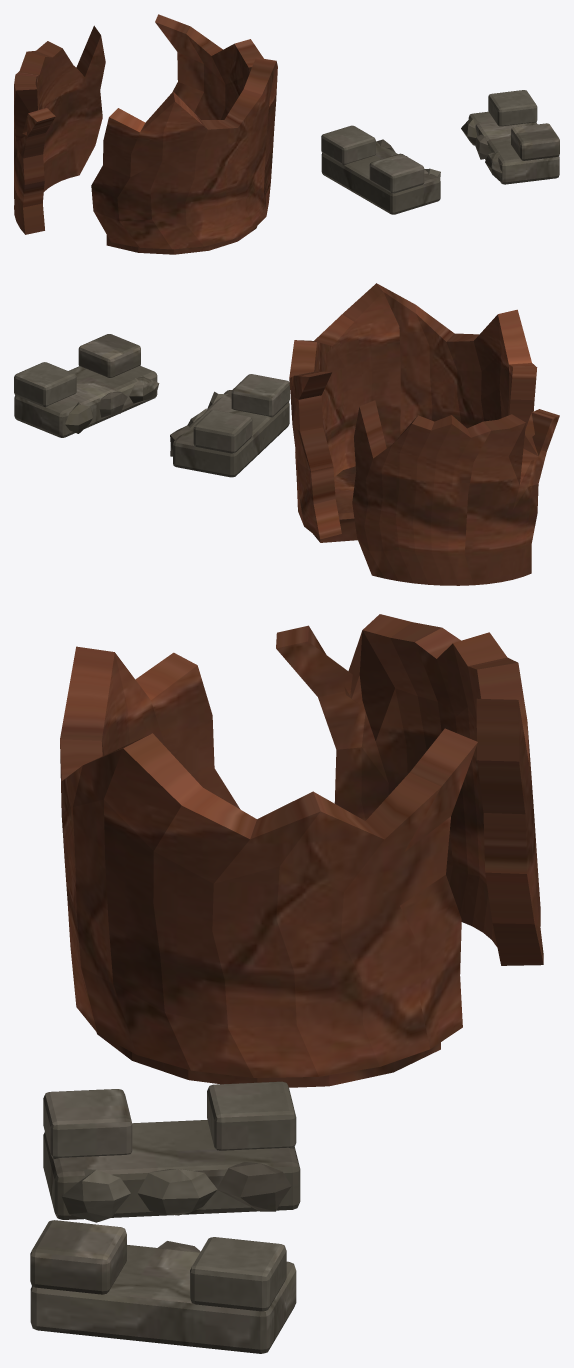
Rendered from junk_crucible_mould.glb.
3 views of the same model, one above another, from view 1: azimuth 30°, elevation 25°; view 2: azimuth 150°, elevation 25°; view 3: azimuth 270°, elevation 25° (orthographic). The views are drawn at different scales.
Parts seen in each view (by area): view 1: model; view 2: model; view 3: model.
Boxes of the visible parts, x1=… form: model: x1=14, y1=14, x2=559, y2=254; model: x1=14, y1=283, x2=559, y2=585; model: x1=30, y1=614, x2=543, y2=1353.
Size of the model in its own units: 0.6843 by 0.2271 by 0.3119.
6 materials, 6 textured.
